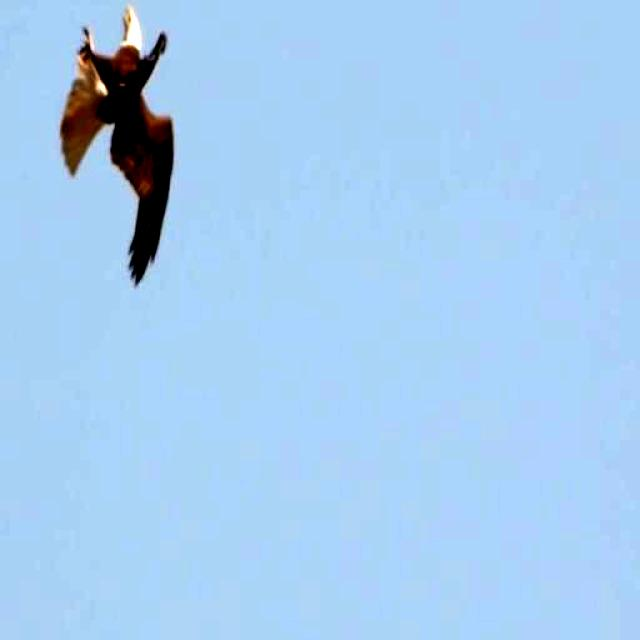airplane: (59, 4, 188, 280)
